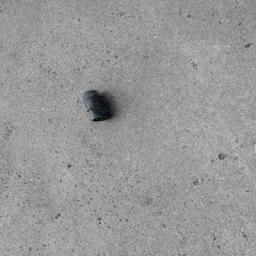FOD: (80, 88, 116, 126)
